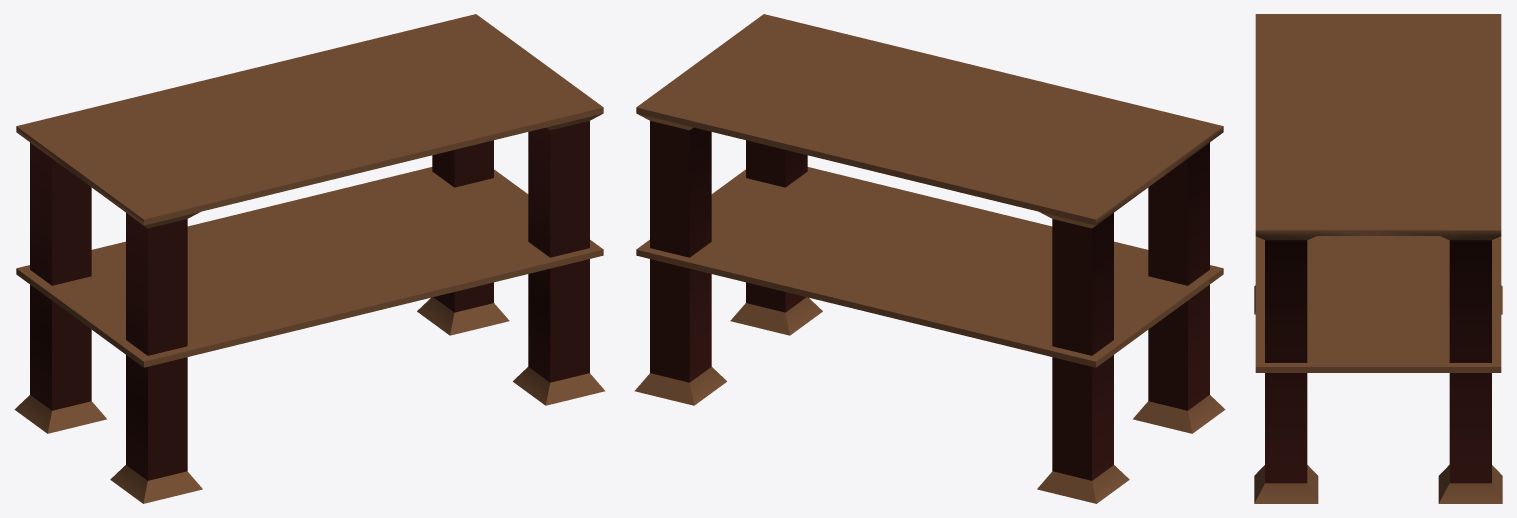
Rendered from Low_Shelf - Final.fbx.
3 views of the same model, side by side, from view 1: azimuth 30°, elevation 25°; view 2: azimuth 150°, elevation 25°; view 3: azimuth 270°, elevation 25° (orthographic). The views are drawn at different scales.
Visible parts, largest first — view 1: Shelf_Low; view 2: Shelf_Low; view 3: Shelf_Low.
Part boxes in pixels (x1,y1,x2,y2): Shelf_Low: (14,14,605,503); Shelf_Low: (634,14,1225,503); Shelf_Low: (1254,14,1502,503).
Bounding box in the file's own units: 235 × 138 × 114.
